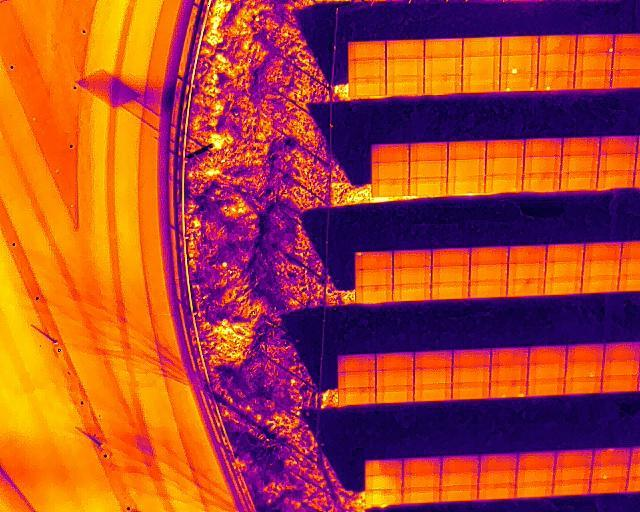Cell: (500, 54, 538, 74), (355, 251, 393, 270), (537, 72, 575, 91), (575, 34, 614, 52), (566, 362, 604, 377), (590, 466, 629, 480)
Cell-Multi: (489, 381, 527, 399), (499, 75, 538, 92)
No-Anomaly: (424, 38, 462, 59), (348, 41, 386, 62), (463, 37, 501, 57), (386, 39, 424, 59), (410, 142, 448, 162), (500, 36, 539, 55), (413, 383, 452, 402), (392, 250, 431, 269), (385, 77, 424, 96), (371, 145, 410, 164), (409, 160, 448, 179), (462, 58, 500, 77), (424, 76, 462, 95), (524, 156, 562, 175), (562, 137, 600, 156), (447, 141, 487, 159), (538, 35, 575, 54), (573, 70, 610, 89), (470, 246, 509, 264), (386, 59, 425, 77), (485, 158, 524, 176), (574, 53, 612, 71), (546, 244, 584, 262), (432, 249, 470, 267), (508, 245, 546, 263), (600, 136, 638, 154), (448, 159, 486, 177), (561, 155, 599, 173), (538, 54, 575, 72), (372, 179, 409, 197), (349, 61, 386, 79), (598, 171, 635, 189), (592, 450, 631, 467), (375, 354, 414, 371), (485, 141, 524, 158), (602, 376, 640, 393), (452, 381, 490, 398), (516, 453, 554, 470), (338, 356, 376, 373), (567, 346, 605, 363), (355, 286, 393, 303), (393, 284, 431, 301), (507, 279, 545, 296), (432, 266, 470, 283), (469, 264, 507, 281), (355, 269, 393, 286), (462, 76, 500, 93), (605, 344, 640, 362), (339, 389, 376, 406), (581, 276, 618, 293), (583, 243, 620, 260), (410, 179, 447, 196), (582, 260, 619, 277), (425, 59, 462, 76), (349, 79, 386, 96), (525, 139, 562, 156), (599, 154, 636, 171), (452, 350, 491, 366), (393, 268, 432, 284), (544, 261, 583, 277), (484, 177, 523, 193), (561, 173, 597, 190), (469, 281, 507, 297), (527, 364, 565, 380), (376, 370, 414, 386), (414, 368, 452, 384), (527, 379, 565, 395), (564, 377, 602, 393), (402, 458, 440, 474), (402, 488, 440, 504), (431, 283, 469, 299), (490, 349, 528, 365), (414, 353, 452, 369), (528, 348, 566, 364), (507, 263, 545, 279), (523, 175, 561, 191), (371, 163, 409, 179), (339, 373, 376, 389), (365, 459, 402, 475), (545, 278, 582, 294), (440, 456, 479, 471), (365, 475, 404, 490), (446, 178, 485, 193), (555, 451, 593, 466), (602, 362, 640, 377), (490, 365, 528, 380), (452, 367, 490, 382), (376, 386, 414, 401), (553, 467, 591, 482), (588, 480, 628, 494), (479, 456, 516, 471), (441, 486, 478, 501), (610, 69, 640, 87), (477, 471, 515, 485), (515, 469, 553, 483), (514, 484, 552, 498), (440, 472, 478, 486), (478, 486, 516, 500), (552, 482, 588, 496), (366, 491, 402, 505), (612, 52, 640, 70), (614, 35, 640, 52), (403, 475, 439, 487)
